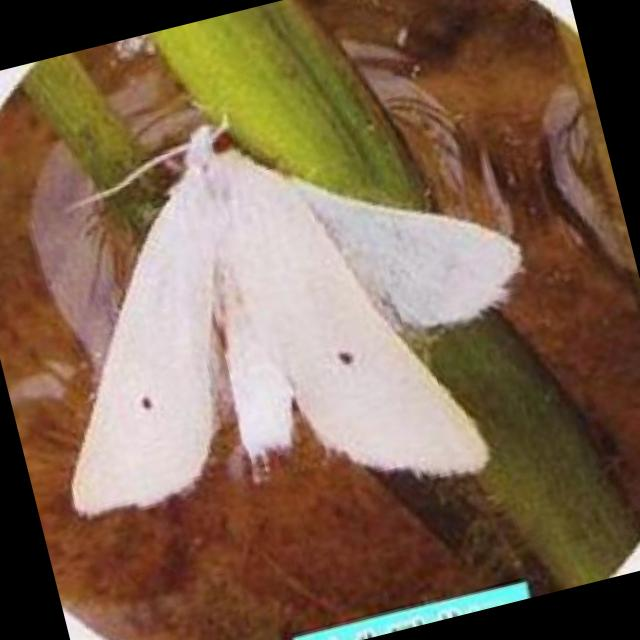stem-borer: (71, 113, 521, 520)
